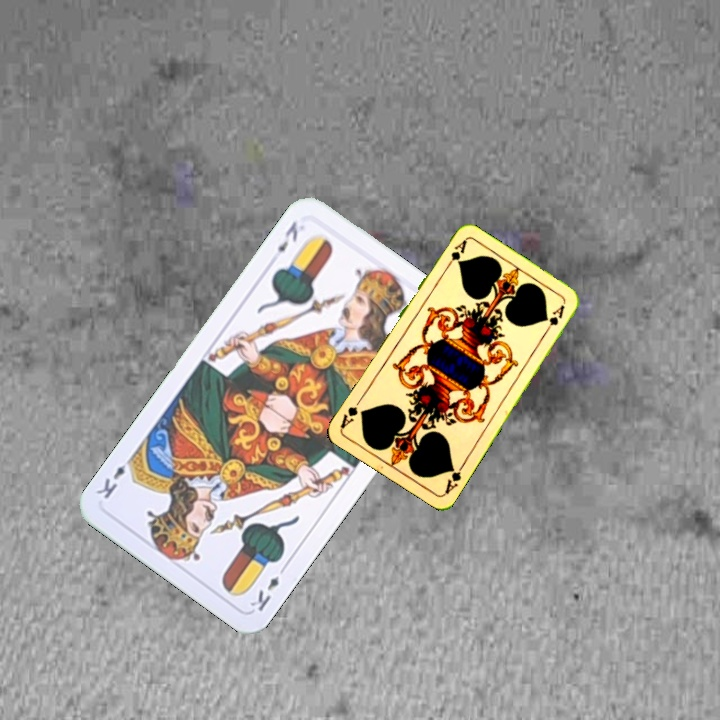EK: (246, 561, 290, 614), (273, 217, 301, 255)
GA: (441, 236, 469, 272), (441, 459, 467, 497)
